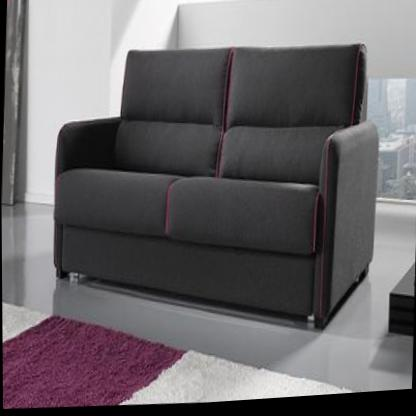Carpet: (2, 302, 348, 409)
Sofa: (46, 30, 382, 349)
